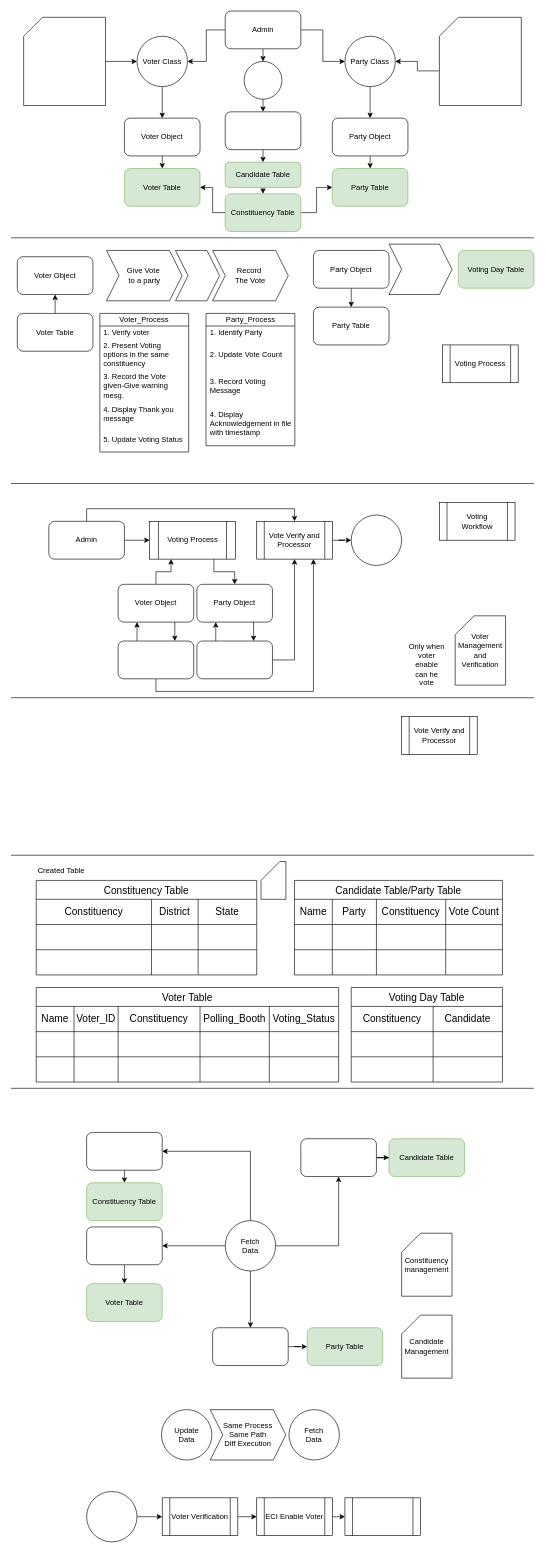
The diagram is 546 pixels wide and 1553 high, and some of its shapes have lost their labels. The shapes that lost their labels are listed below. From the top down, each one's centre as x and y in pixels, then its label:
At (x=64, y=61): "1. Name 2. Voter ID 3. Constituency 4. Pooling Booth 5. Voting Status".
At (x=262, y=80): "Candidate Class".
At (x=480, y=61): "1. Name 2. Image 3. Constituency (LIST) 4. Votes Received 5. Candidates".
At (x=263, y=130): "Candidate Object".
At (x=420, y=269): "Store Data in Voting Day Table".
At (x=376, y=539): "Final Result".
At (x=155, y=659): "Voter Database".
At (x=234, y=659): "Party Database".
At (x=273, y=880): "Election ( Day- Contituency Mapping -Time".
At (x=124, y=1151): "Fetching Dist/State".
At (x=338, y=1157): "Fetching Candidate".
At (x=124, y=1245): "Fetching Voters".
At (x=250, y=1346): "Fetching Party".
At (x=111, y=1516): "Voter".
At (x=382, y=1516): "Voting".
